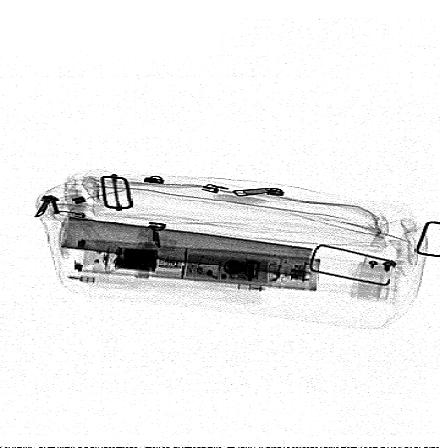Baton: (73, 239, 322, 293)
